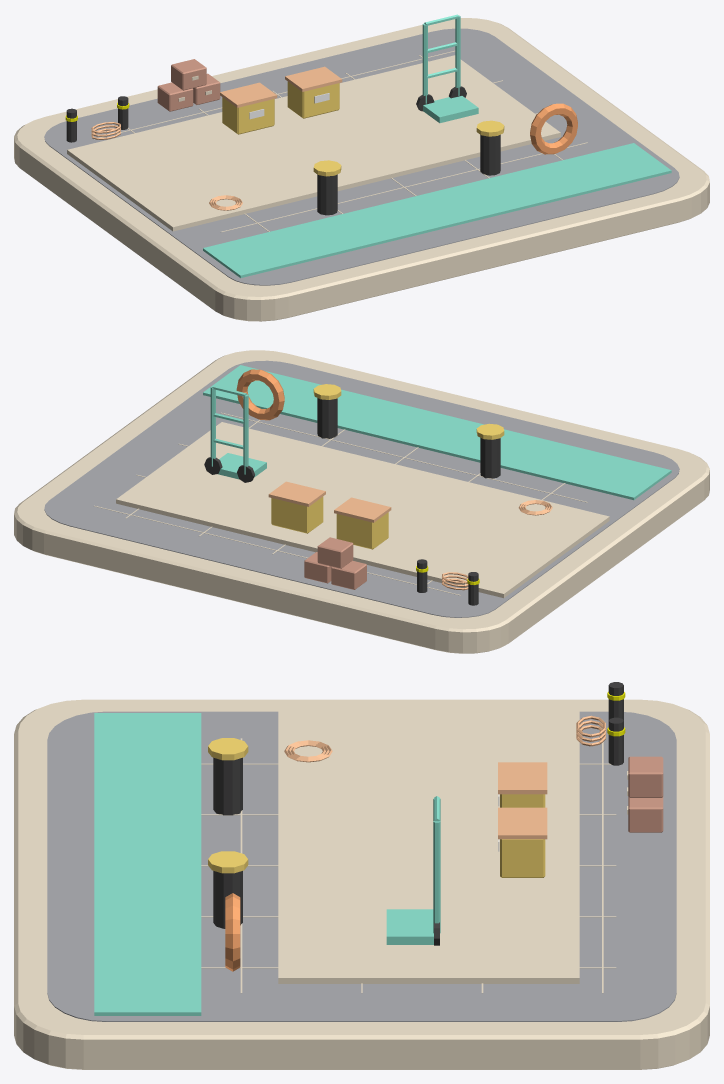
The model's file is room.fbx.
3 renders of one model, top to bottom at view 1: azimuth 30°, elevation 25°; view 2: azimuth 150°, elevation 25°; view 3: azimuth 270°, elevation 25°, orthographic. The views are drawn at different scales.
Visible parts, largest first — view 1: Dock paving, COM-01 Rounded Base Direct, COM-02 Floor Surface, Water edge, Life ring, Box.001, Box, Loading plate, Stacked case.002, Lid, Lid.001, Mooring post.001 (+3 smaller); view 2: COM-01 Rounded Base Direct, Dock paving, COM-02 Floor Surface, Water edge, Box.001, Box, Life ring, Stacked case.002, Lid, Lid.001, Mooring post, Mooring post.001 (+4 smaller); view 3: Dock paving, COM-02 Floor Surface, COM-01 Rounded Base Direct, Water edge, Box.001, Loading plate, Mooring post, Lid, Lid.001, Stacked case.002, Stacked case.001, Life ring (+6 smaller).
Boxes of the visible parts, box(x1,y1,x2,y2) form: Dock paving: box(67, 55, 560, 231); COM-01 Rounded Base Direct: box(14, 18, 709, 321); COM-02 Floor Surface: box(44, 28, 679, 285); Water edge: box(203, 143, 671, 278); Life ring: box(530, 103, 577, 154); Box.001: box(287, 81, 339, 118); Box: box(222, 97, 274, 134); Loading plate: box(423, 96, 478, 123); Stacked case.002: box(171, 59, 206, 90); Lid: box(220, 82, 277, 107); Lid.001: box(285, 66, 342, 91); Mooring post.001: box(480, 134, 500, 175); COM-01 Rounded Base Direct: box(14, 350, 709, 653); Dock paving: box(116, 422, 609, 598); COM-02 Floor Surface: box(44, 360, 679, 617); Water edge: box(203, 365, 671, 500); Box.001: box(271, 496, 323, 533); Box: box(336, 512, 388, 549); Life ring: box(236, 369, 284, 420); Stacked case.002: box(317, 537, 353, 568); Lid: box(334, 497, 391, 522); Lid.001: box(268, 481, 325, 506); Mooring post: box(480, 438, 500, 478); Mooring post.001: box(317, 398, 337, 438); Dock paving: box(278, 708, 579, 983); COM-02 Floor Surface: box(47, 711, 676, 1021); COM-01 Rounded Base Direct: box(14, 699, 709, 1069); Water edge: box(94, 713, 201, 1015); Box.001: box(500, 839, 545, 877); Loading plate: box(386, 909, 433, 944); Mooring post: box(213, 757, 242, 815); Lid: box(498, 762, 547, 794); Lid.001: box(498, 807, 547, 839); Stacked case.002: box(628, 756, 663, 797); Stacked case.001: box(628, 797, 663, 832); Life ring: box(225, 893, 240, 971).
Bounding box in the file's own units: 600 × 139 × 520.
